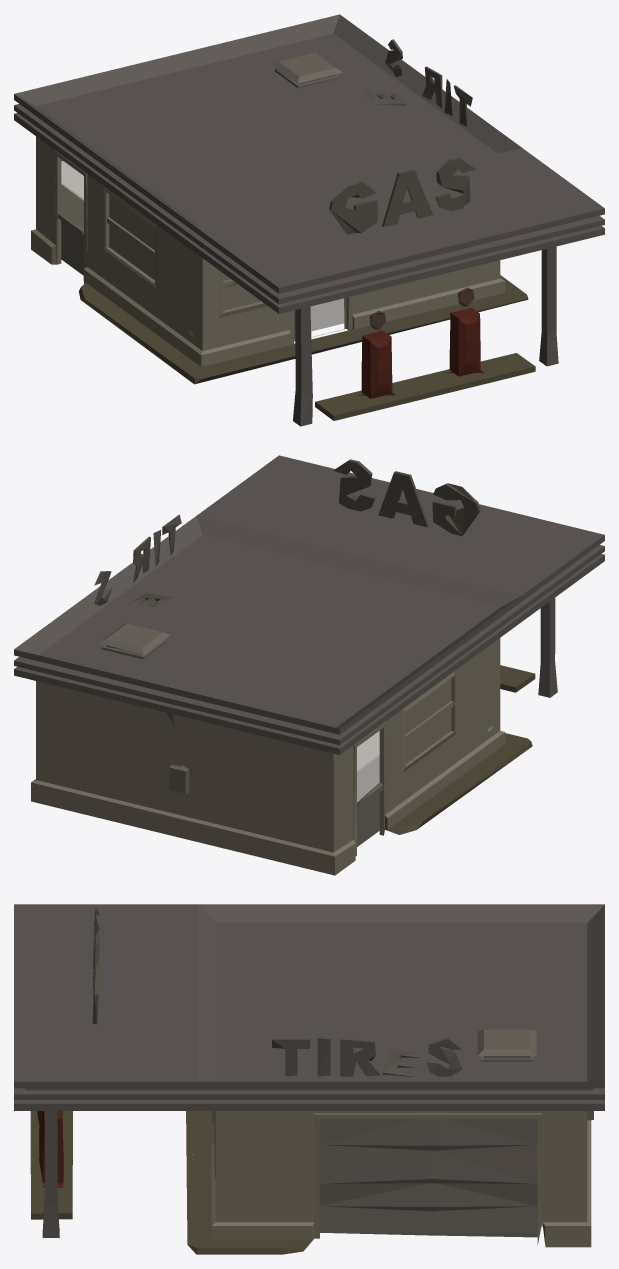
The model's file is roadside-gas.zfix-v14.lod2.glb.
The picture shows the model from 3 angles, top to bottom: view 1: azimuth 30°, elevation 25°; view 2: azimuth 150°, elevation 25°; view 3: azimuth 270°, elevation 25°; orthographic projection. The views are drawn at different scales.
Visible parts, largest first — view 1: Gas_Pump:Pump_Top_Sign_Geo_pump_misc_shader_0; view 2: Gas_Pump:Pump_Top_Sign_Geo_pump_misc_shader_0; view 3: Gas_Pump:Pump_Top_Sign_Geo_pump_misc_shader_0.
Part boxes in pixels (x1=…): Gas_Pump:Pump_Top_Sign_Geo_pump_misc_shader_0: x1=14, y1=14, x2=604, y2=426; Gas_Pump:Pump_Top_Sign_Geo_pump_misc_shader_0: x1=14, y1=455, x2=604, y2=875; Gas_Pump:Pump_Top_Sign_Geo_pump_misc_shader_0: x1=14, y1=904, x2=604, y2=1254.
Size of the model in its own units: 12.81 by 7.46 by 17.41.
